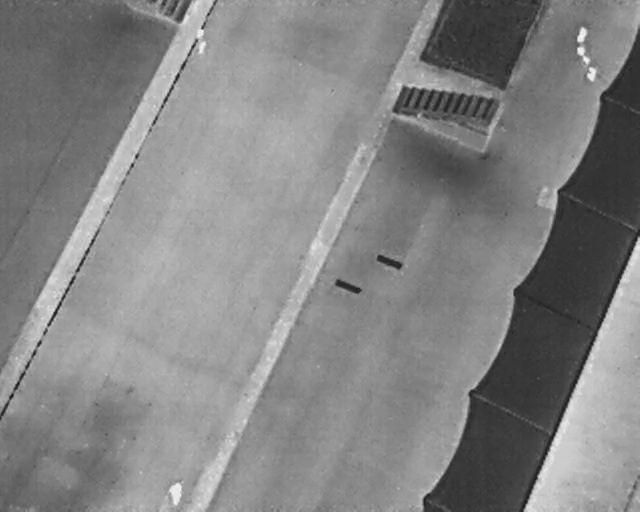Person: (167, 479, 183, 508), (195, 27, 207, 55)
